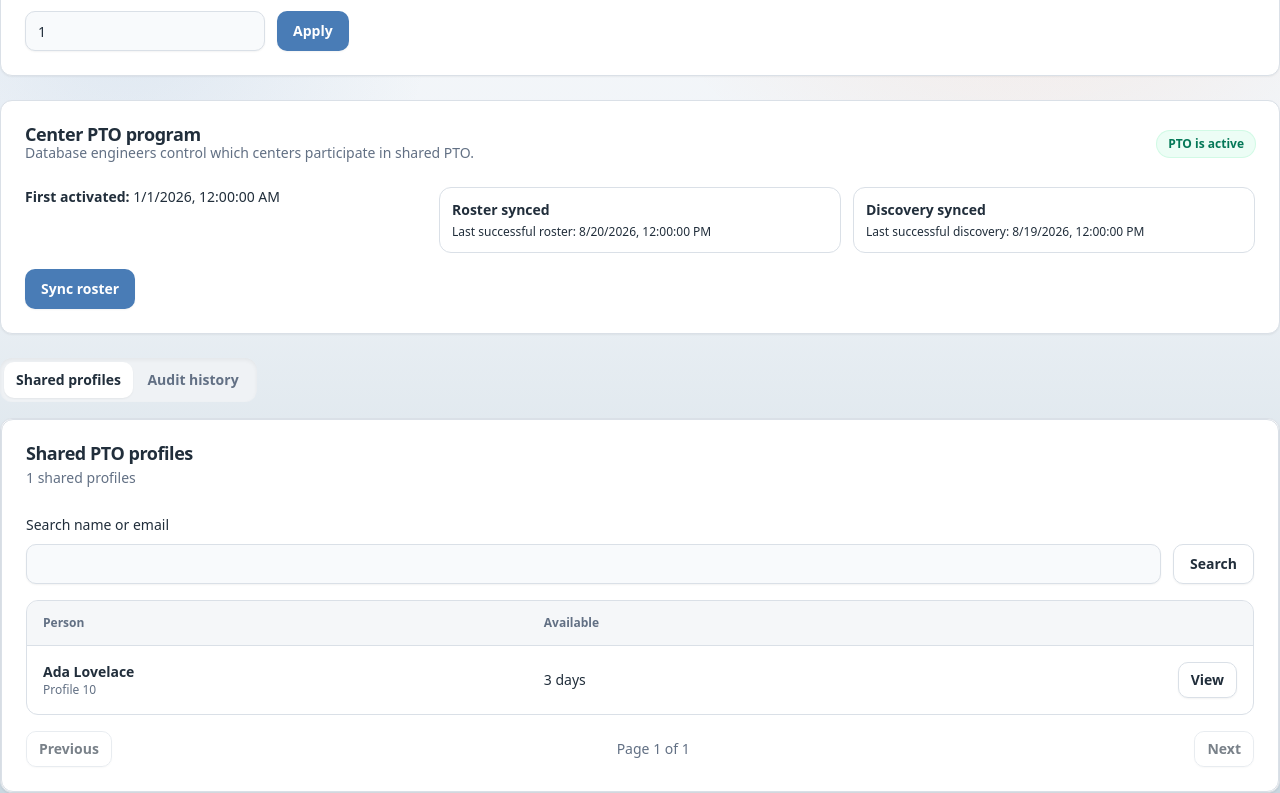
it: PTO management › refreshes the authoritative profile when account confirmation is stale
The width and height of the screenshot is (1280, 793).
(page scrolled)
Expected: the text "Ada Lovelace" is shown, [43,662,134,680]
Click the button with aria-label "View Ada Lovelace".
click(1207, 680)  # box [1178,662,1237,698]
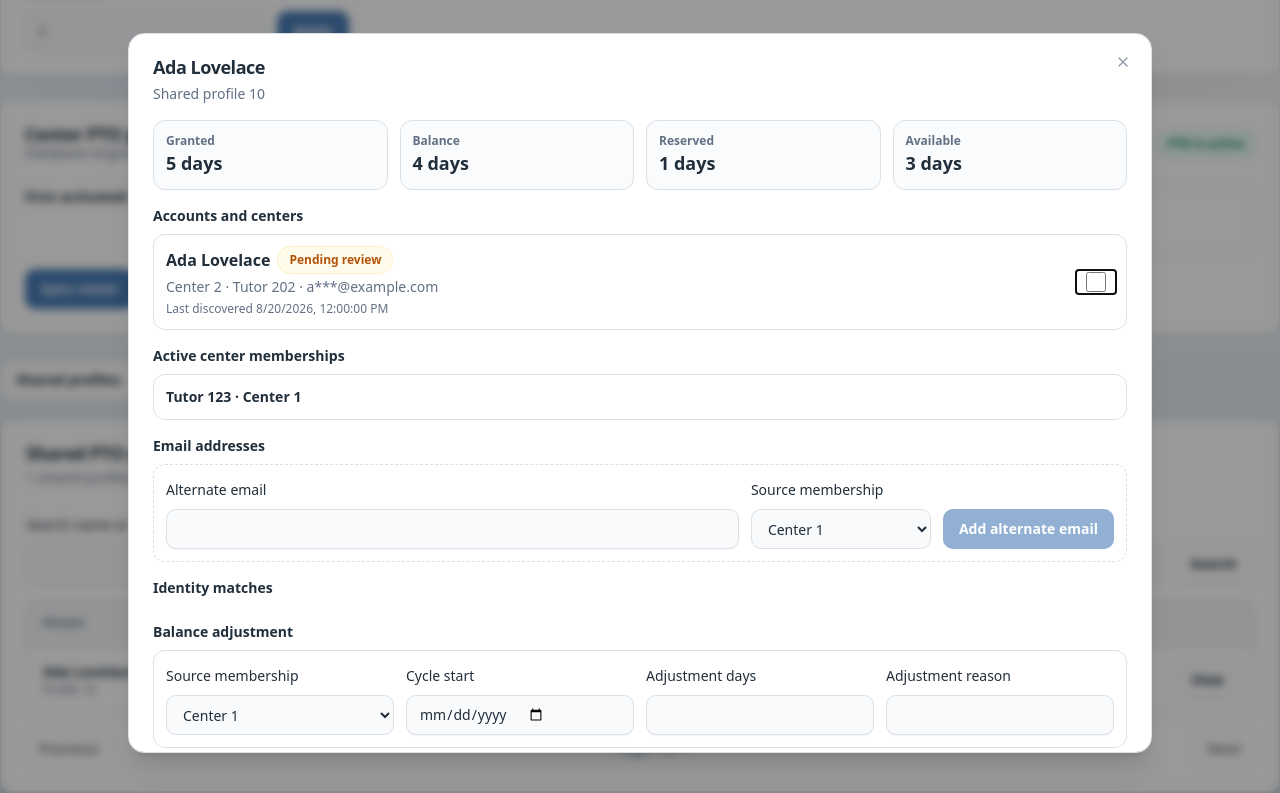
Click the switch named "Pending review account Center 2 tutor 202".
click(1096, 282)  # box [1078,272,1114,292]
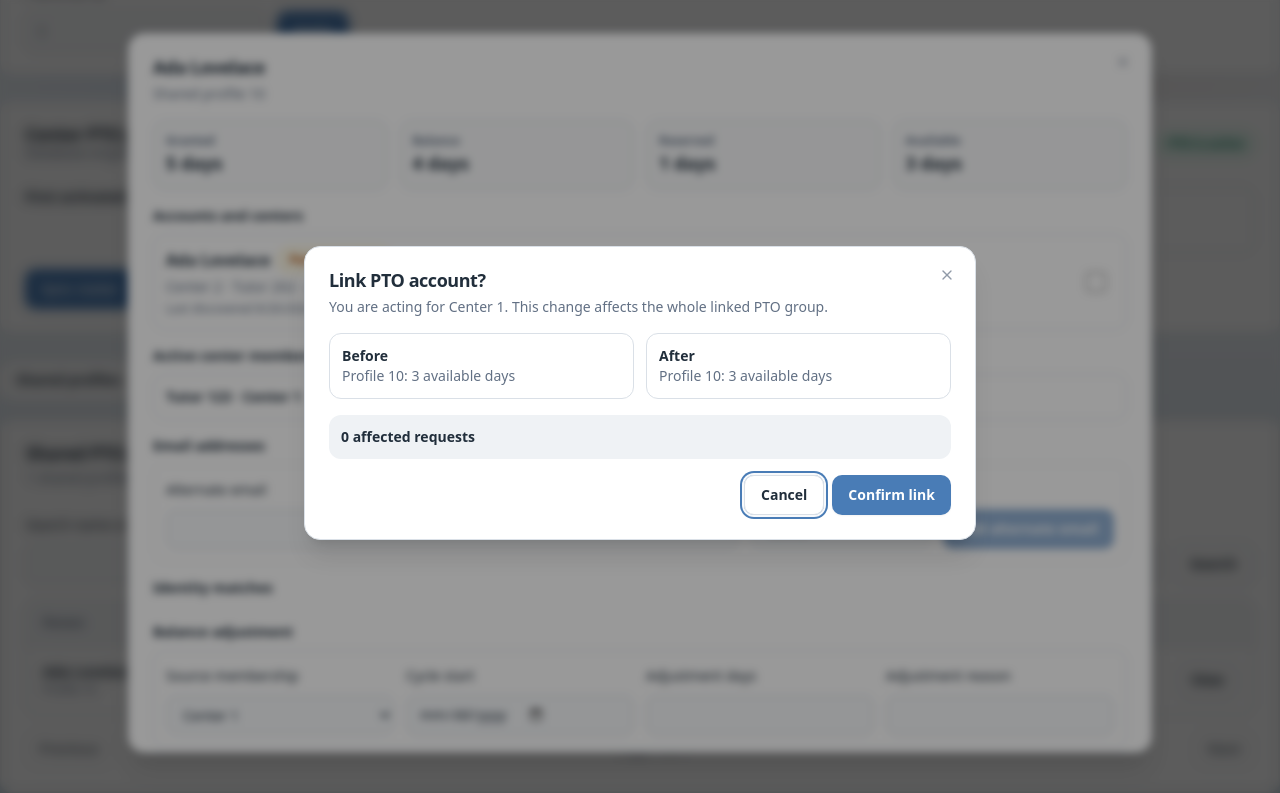
Click the button "Confirm link".
click(892, 495)  # box [832,475,951,515]
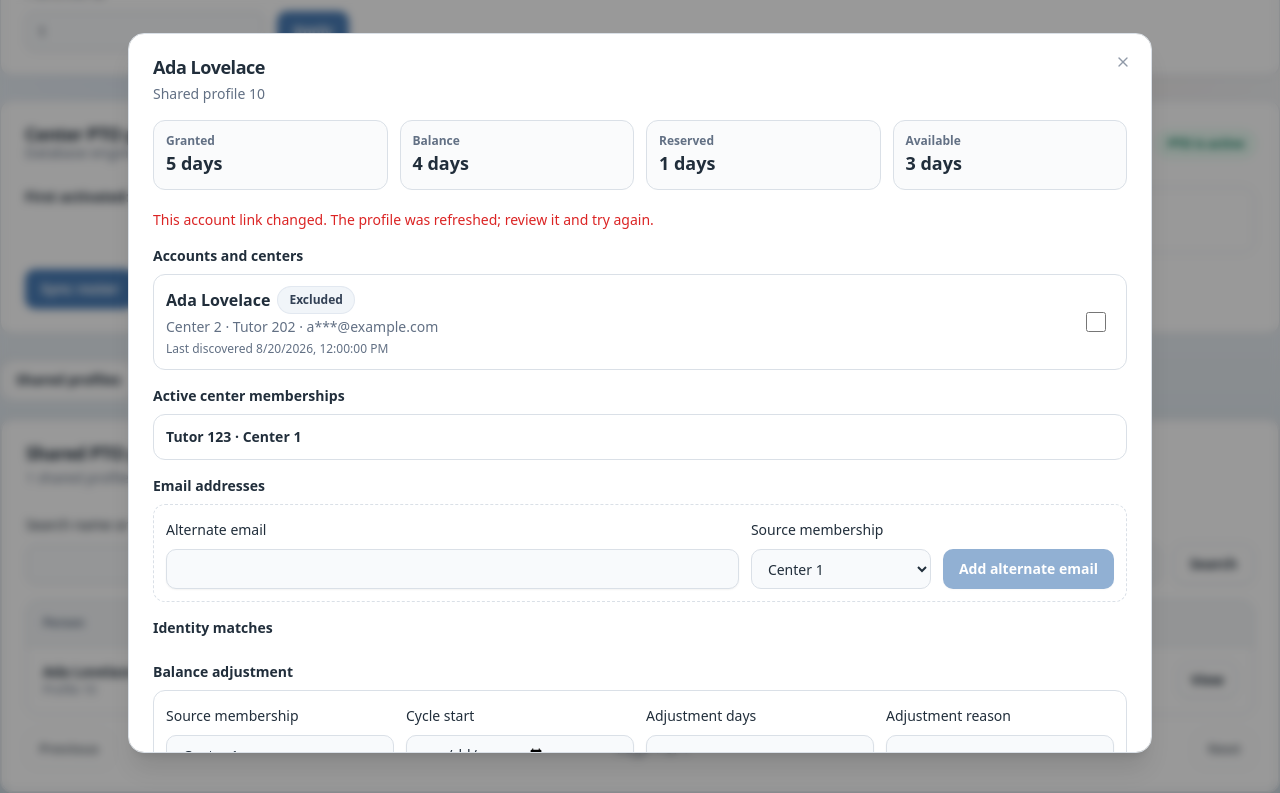
Expected: the switch named "Excluded account Center 2 tutor 202" is not checked, [1078,312,1114,332]
Expected: the text "profile was refreshed; review it and try again" is shown, [153,210,654,229]
